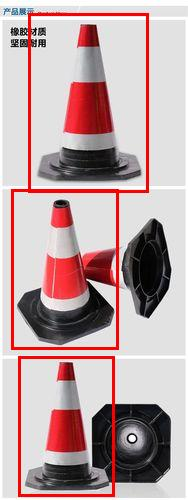traffic_cone: (18, 192, 170, 345), (21, 362, 173, 491), (39, 22, 146, 184)
